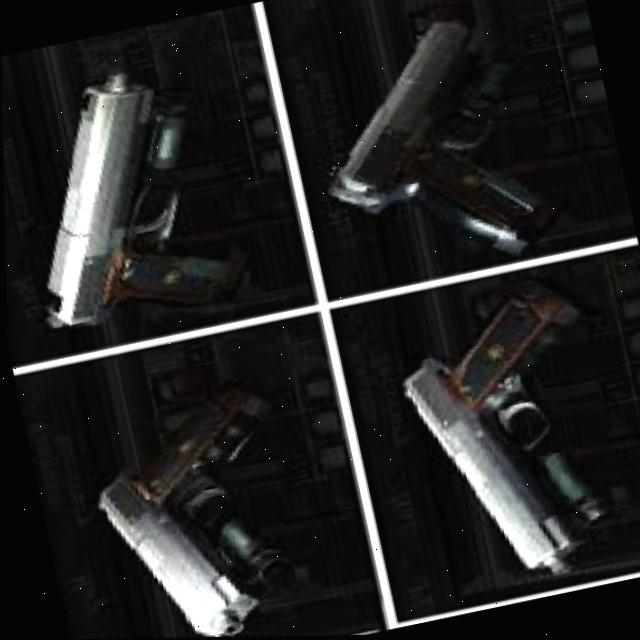gun: (288, 0, 584, 291), (379, 273, 629, 602), (1, 50, 264, 351), (70, 364, 328, 640)
